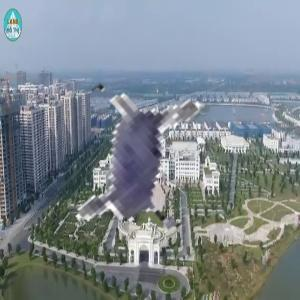drone: (3, 34, 264, 295)
